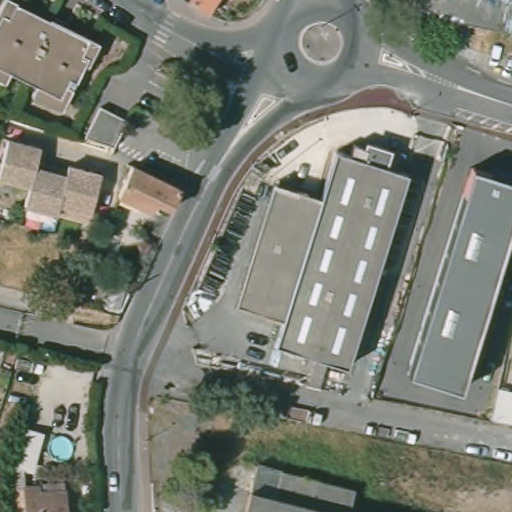pool: (47, 429, 79, 464)
